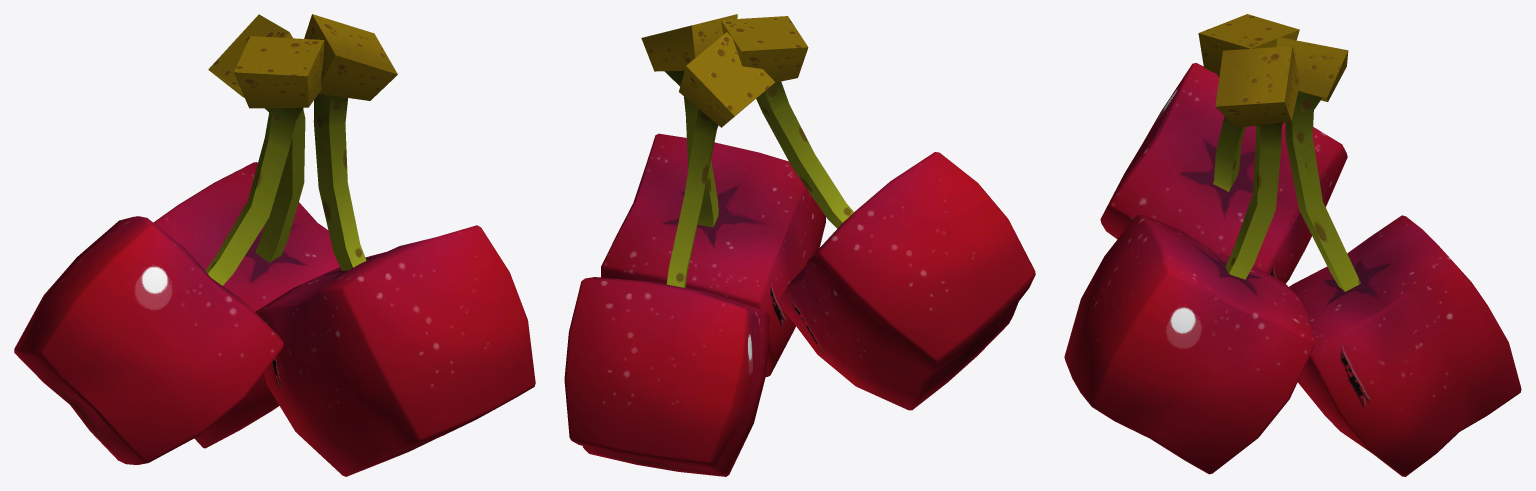
Rendered from Cherries.glb.
3 views of the same model, side by side, from view 1: azimuth 30°, elevation 25°; view 2: azimuth 150°, elevation 25°; view 3: azimuth 270°, elevation 25° (orthographic). The views are drawn at different scales.
Visible parts, largest first — view 1: polySurface2.1, polySurface3.2, polySurface4.3; view 2: polySurface3.2, polySurface4.3, polySurface2.1; view 3: polySurface2.1, polySurface4.3, polySurface3.2.
Part boxes in pixels (left/top/right/bottom): polySurface2.1: left=255, top=14, right=535, bottom=476; polySurface3.2: left=14, top=36, right=324, bottom=464; polySurface4.3: left=153, top=14, right=339, bottom=448; polySurface3.2: left=721, top=16, right=1035, bottom=410; polySurface4.3: left=564, top=32, right=775, bottom=476; polySurface2.1: left=601, top=14, right=825, bottom=376; polySurface2.1: left=1064, top=46, right=1314, bottom=474; polySurface4.3: left=1276, top=37, right=1521, bottom=476; polySurface3.2: left=1100, top=14, right=1347, bottom=283.
Bounding box in the file's own units: 0.2039 × 0.1943 × 0.192.
Materials: 3 (3 with a texture image).
